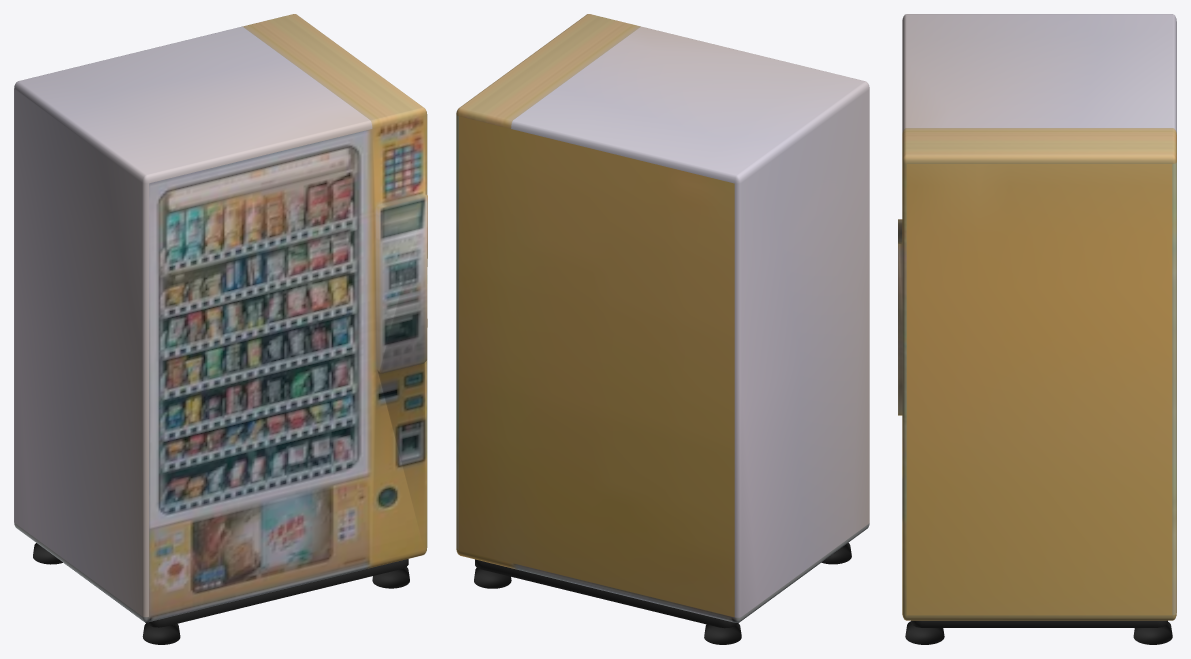
Rendered from drinks-vending-machine.gltf.
3 renders of one model, left to right at view 1: azimuth 30°, elevation 25°; view 2: azimuth 150°, elevation 25°; view 3: azimuth 270°, elevation 25°, orthographic. The views are drawn at different scales.
Parts seen in each view (by area): view 1: Sketchfab_model; view 2: Sketchfab_model; view 3: Sketchfab_model.
Boxes of the visible parts, bbox=[...] form: Sketchfab_model: bbox=[14, 14, 427, 644]; Sketchfab_model: bbox=[456, 14, 869, 644]; Sketchfab_model: bbox=[898, 14, 1176, 644].
Size of the model in its own units: 1.15 by 1.84 by 0.9404.
2 materials, 1 textured.
